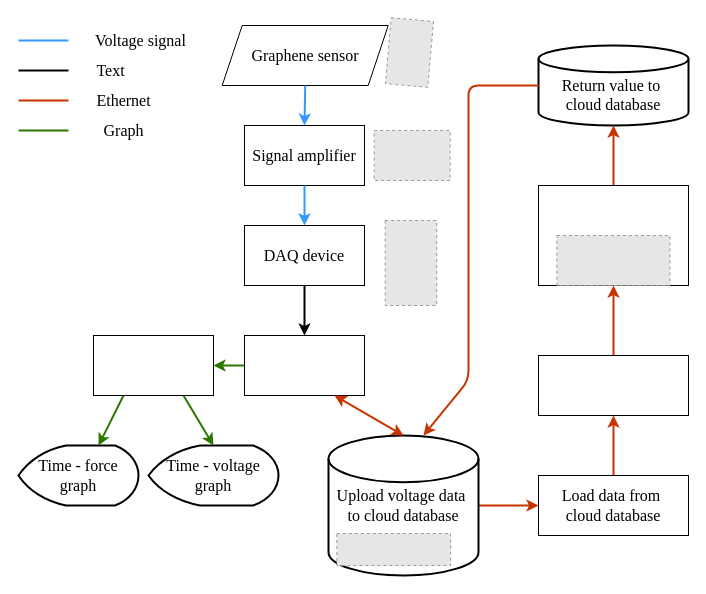
The diagram is 706 pixels wide and 594 high, and some of its shapes have lost their labels. Grey dashed boxes stand in for pictures. The box of each missing label's shape, as (x1, y1, x2, y2) in pixels:
Convert voltage signal to force signal: (538, 184, 688, 286)
Display device: (244, 334, 364, 396)
HMI program: (92, 334, 214, 396)
Load predefined force conversion model: (538, 354, 688, 416)
